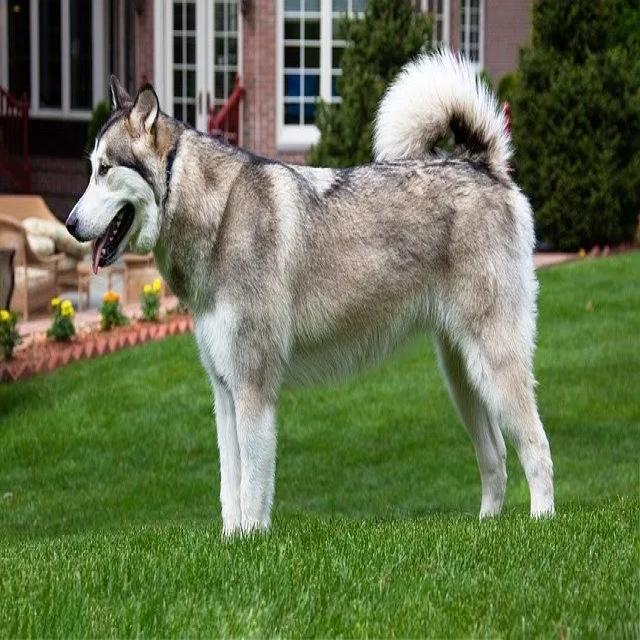ALASKAN_MALAMUTE: (53, 39, 575, 544)
